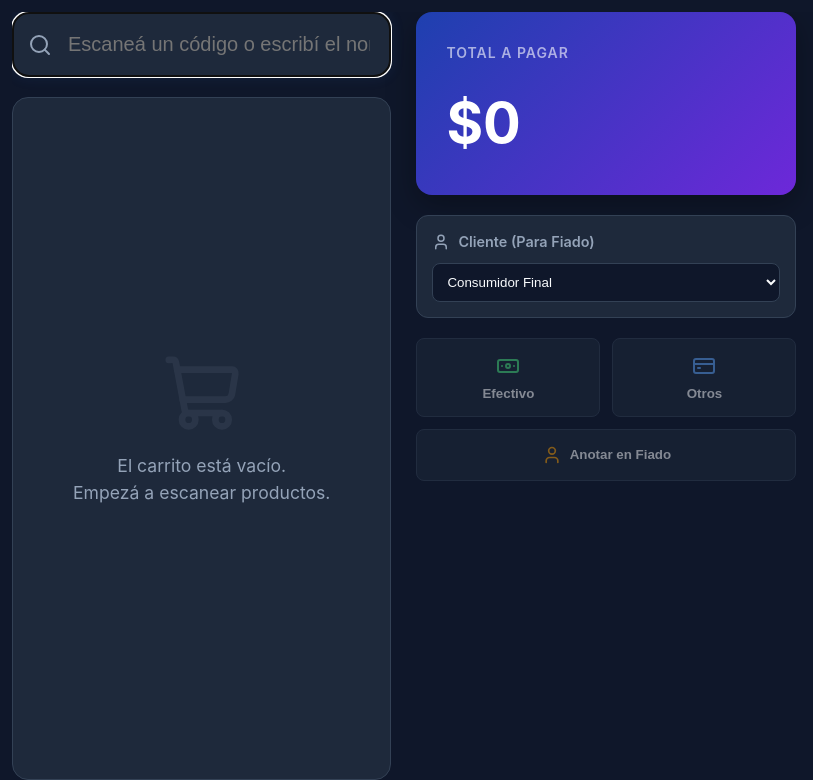
Ventas – barcode scan via Enter key › shows dropdown when multiple results are returned
The width and height of the screenshot is (813, 780).
Type "Pro" into the field with placeholder "Escaneá un código o escribí el nombre... (Enter)" at (202, 44), box top-left (12, 12), bottom-right (391, 77)
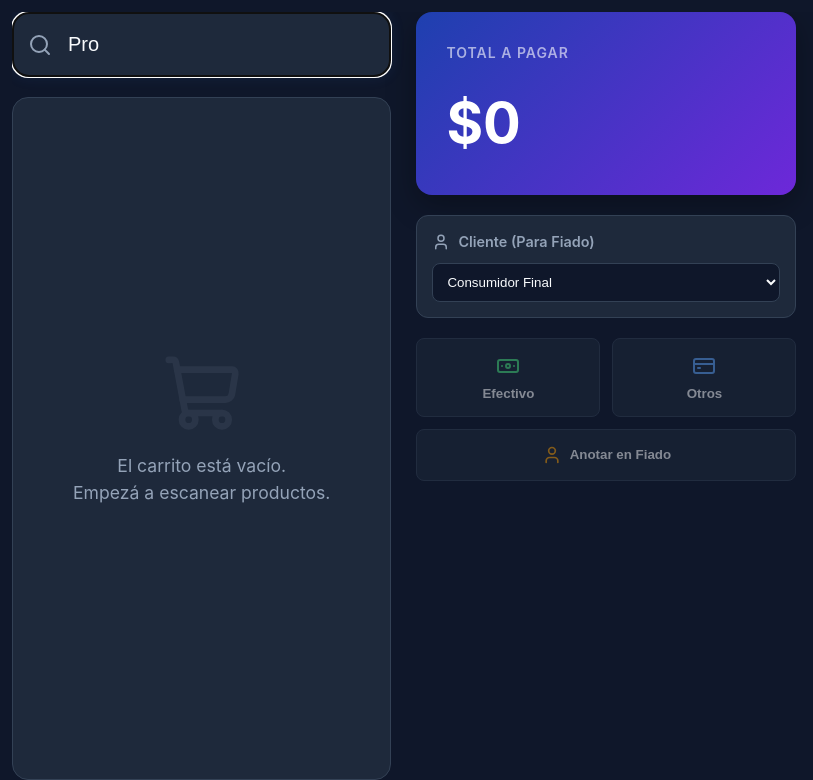
Press Enter in the field with placeholder "Escaneá un código o escribí el nombre... (Enter)", box top-left (12, 12), bottom-right (391, 77)
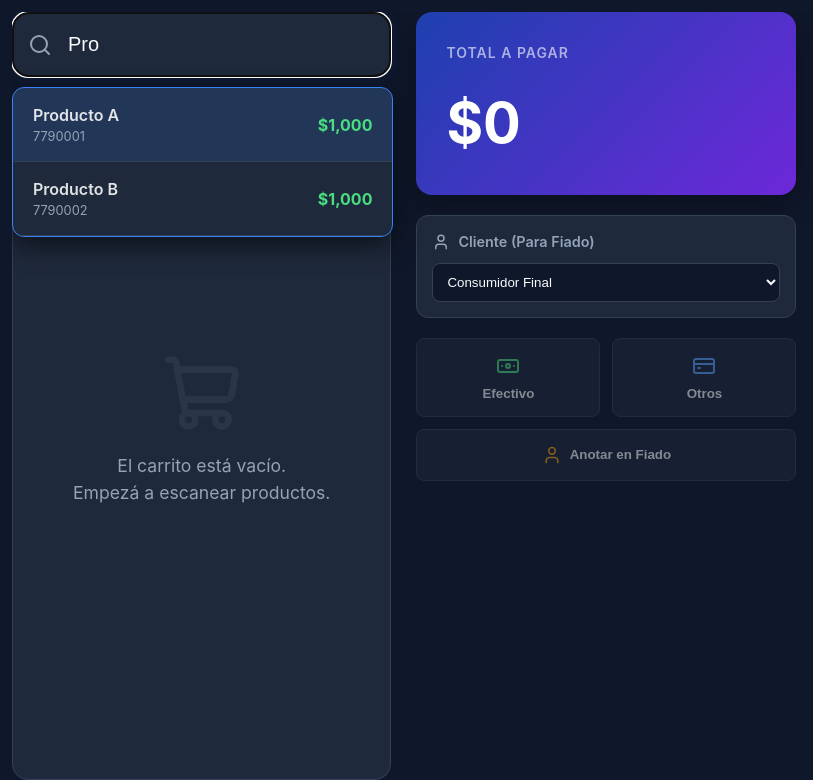
Expected: the text "Producto A" is shown, top-left (33, 103), bottom-right (119, 127)
Expected: the text "Producto B" is shown, top-left (33, 177), bottom-right (118, 201)
